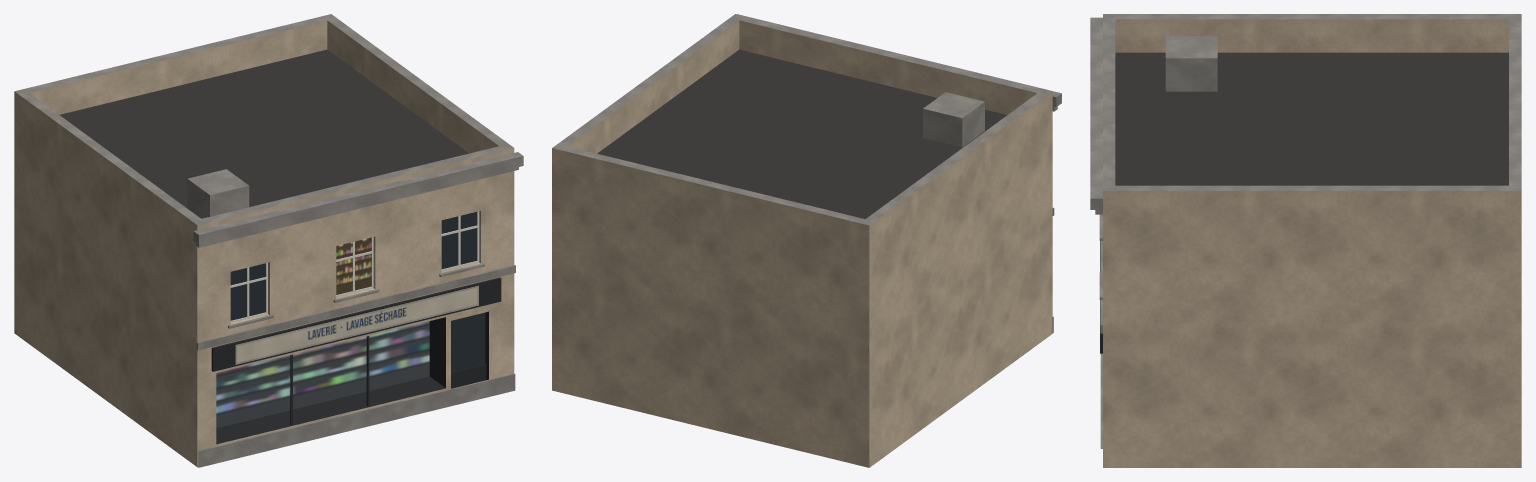
The model's file is Bld_Laverie.fbx.
The picture shows the model from 3 angles, left to right: view 1: azimuth 30°, elevation 25°; view 2: azimuth 150°, elevation 25°; view 3: azimuth 270°, elevation 25°; orthographic projection. The views are drawn at different scales.
Visible parts, largest first — view 1: Bld_Laverie; view 2: Bld_Laverie; view 3: Bld_Laverie.
Part boxes in pixels (bbox=[...]): Bld_Laverie: bbox=[14, 14, 523, 467]; Bld_Laverie: bbox=[552, 14, 1061, 467]; Bld_Laverie: bbox=[1090, 14, 1521, 467].
Size of the model in its own units: 10.24 by 7.3 by 10.3.
